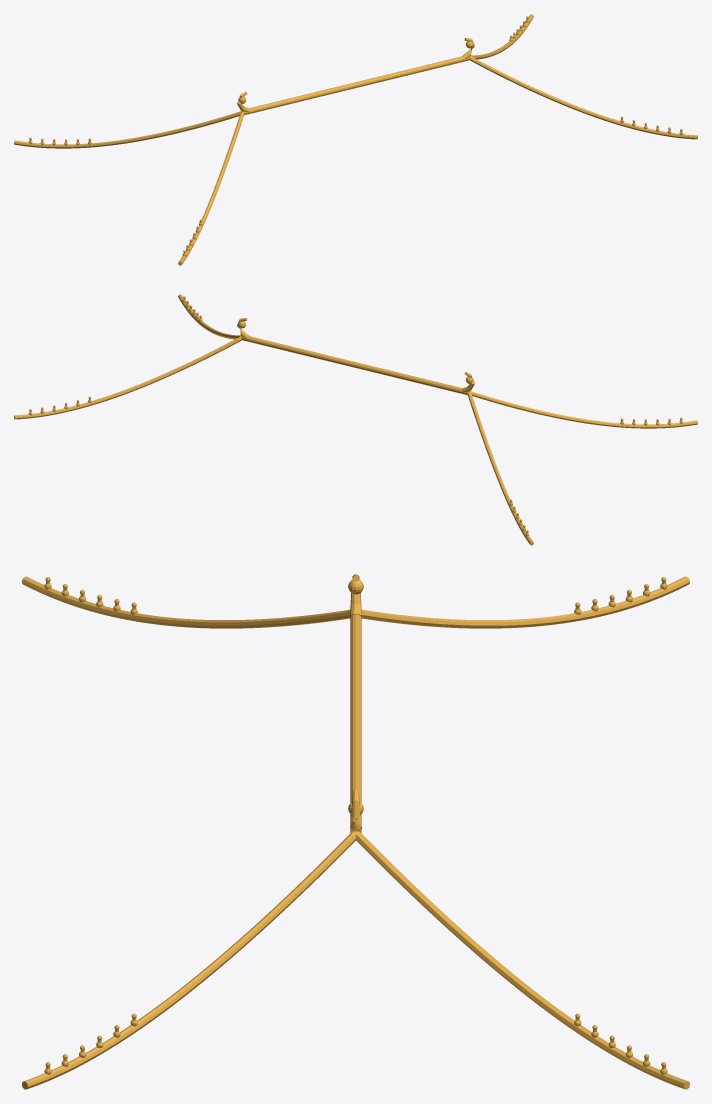
Rendered from SM_19_Ridge_Ornaments_Upper.fbx.
3 renders of one model, top to bottom at view 1: azimuth 30°, elevation 25°; view 2: azimuth 150°, elevation 25°; view 3: azimuth 270°, elevation 25°, orthographic. The views are drawn at different scales.
Visible parts, largest first — view 1: Ridge_Ornaments_Upper; view 2: Ridge_Ornaments_Upper; view 3: Ridge_Ornaments_Upper.
Boxes of the visible parts, x1,y1,x2,y2 form: Ridge_Ornaments_Upper: (14, 14, 697, 265); Ridge_Ornaments_Upper: (14, 294, 697, 545); Ridge_Ornaments_Upper: (22, 574, 689, 1089).
Size of the model in its own units: 4825 by 2686 by 688.
